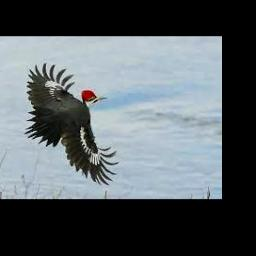Woodpecker: (24, 62, 120, 185)
